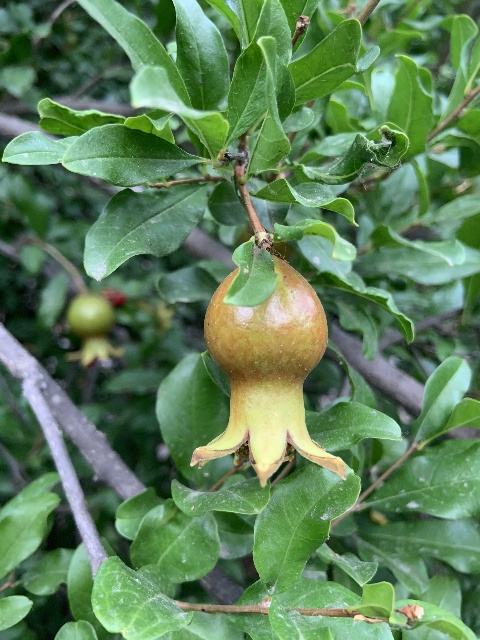early-fruit: (189, 256, 346, 488)
mid-growth: (62, 293, 125, 368)
